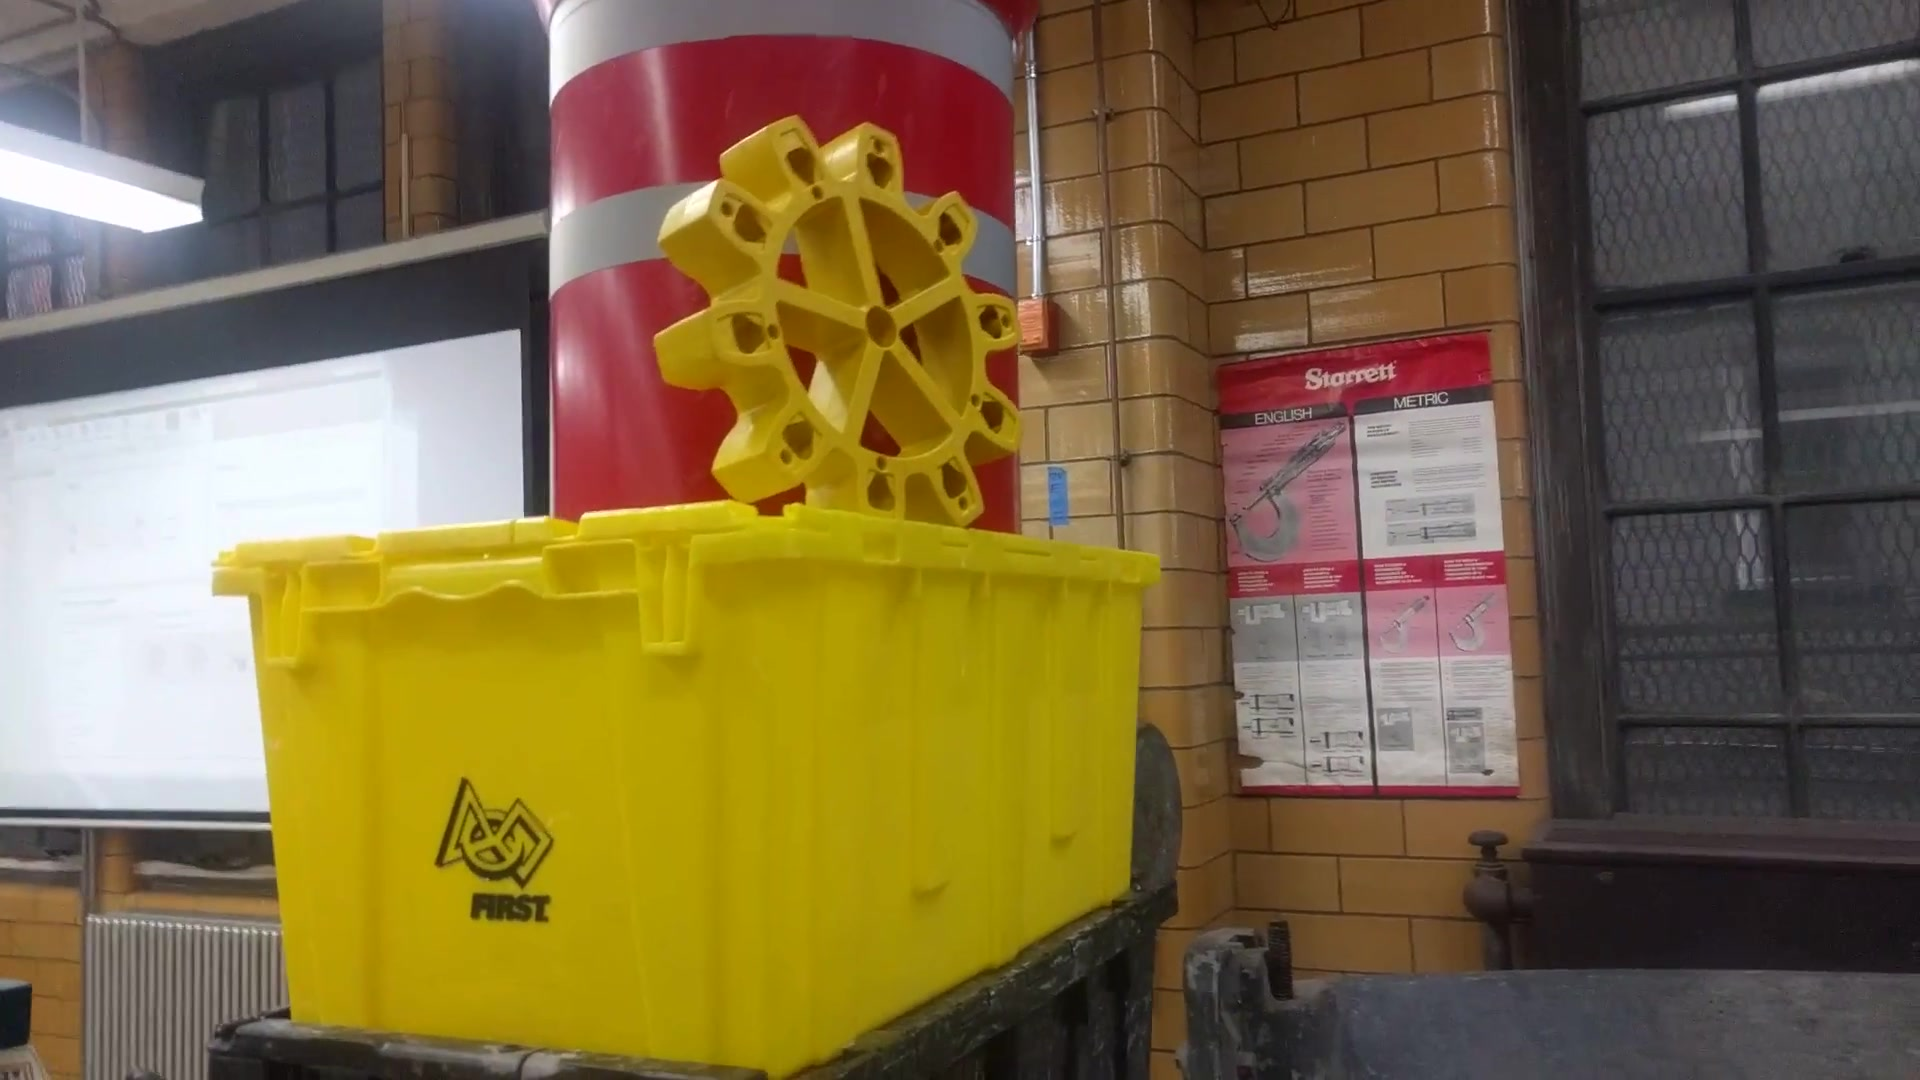gear: (657, 102, 1034, 534)
